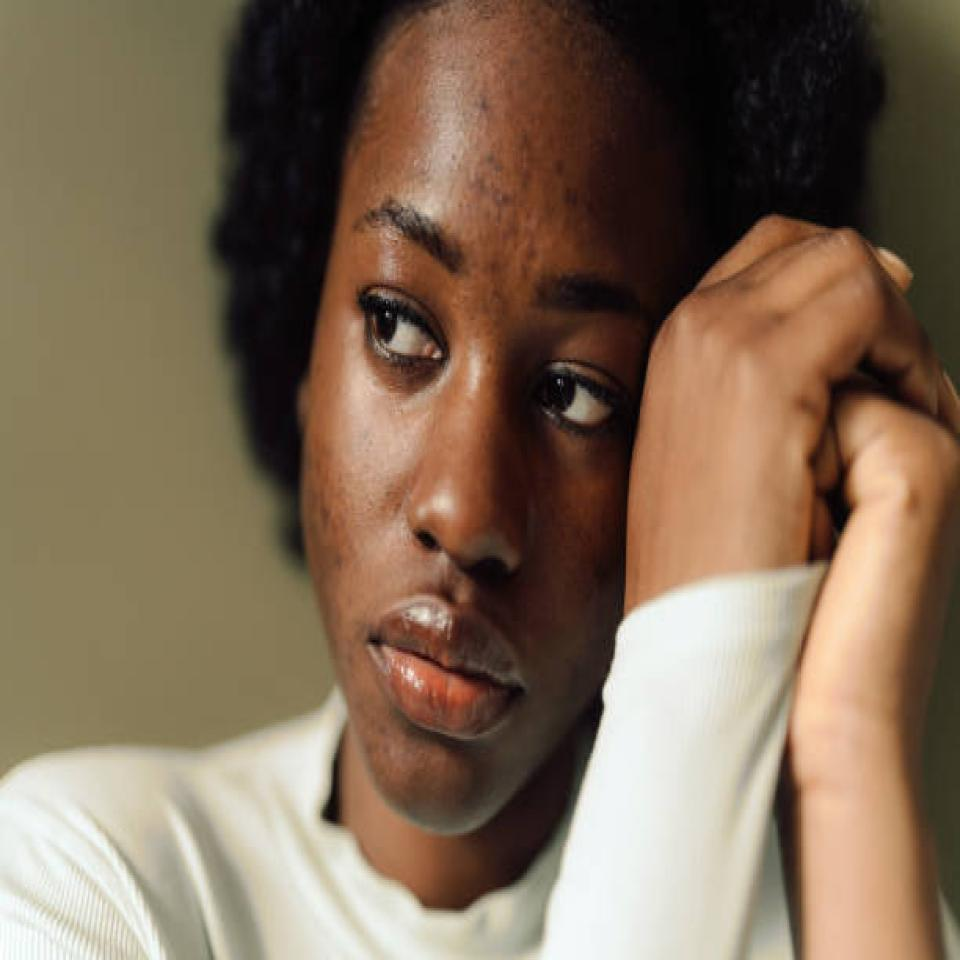Sadness: (304, 0, 644, 822)
